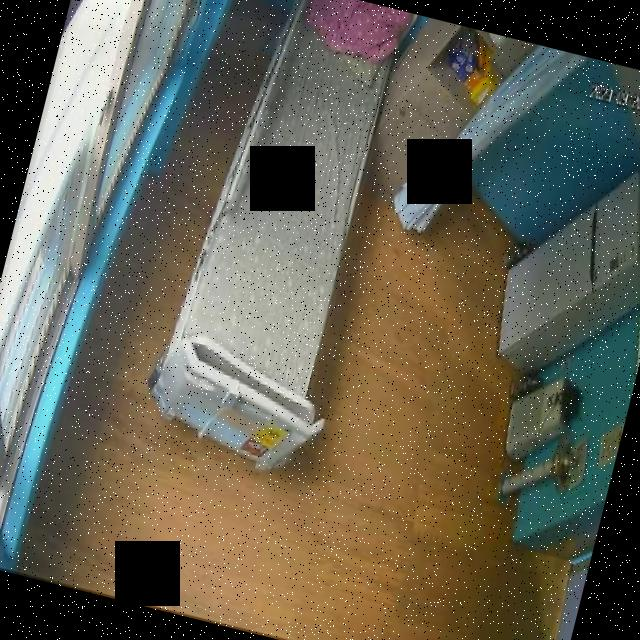bed: (141, 0, 424, 480)
